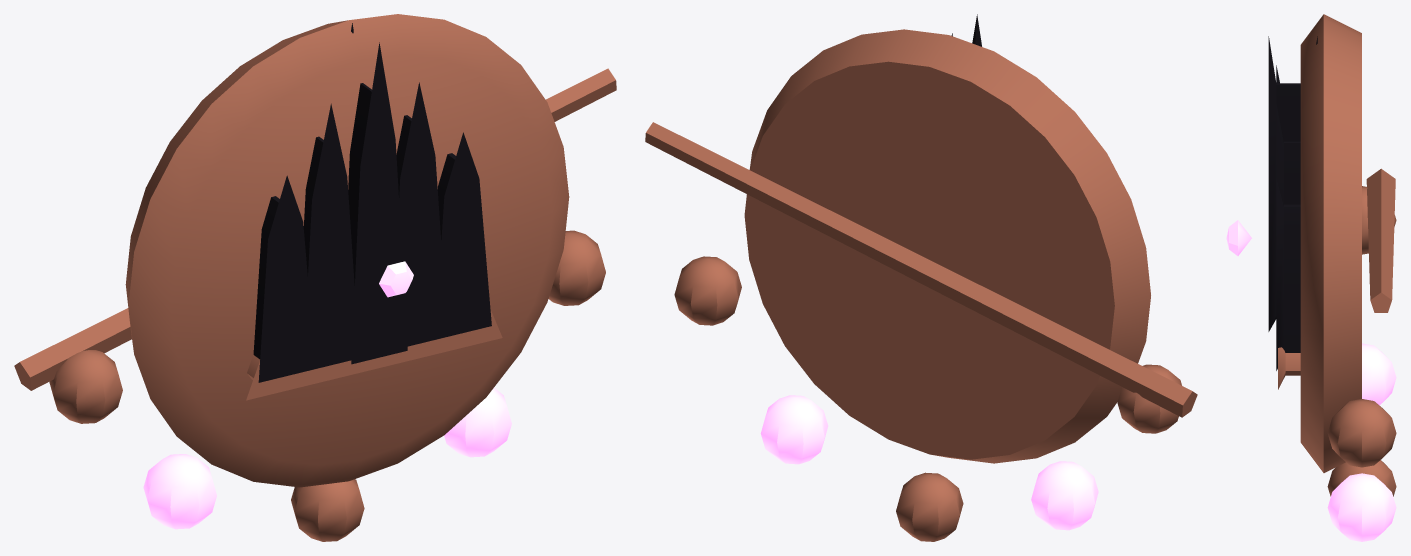
File: boss_obsidian_oath_accessory_4.glb
3 views of the same model, side by side, from view 1: azimuth 30°, elevation 25°; view 2: azimuth 150°, elevation 25°; view 3: azimuth 270°, elevation 25° (orthographic). The views are drawn at different scales.
Parts seen in each view (by area): view 1: boss_obsidian_oath_accessory_4; view 2: boss_obsidian_oath_accessory_4; view 3: boss_obsidian_oath_accessory_4.
Part boxes in pixels (x1=…): boss_obsidian_oath_accessory_4: x1=14, y1=14, x2=616, y2=541; boss_obsidian_oath_accessory_4: x1=645, y1=14, x2=1197, y2=541; boss_obsidian_oath_accessory_4: x1=1226, y1=14, x2=1396, y2=541.
Size of the model in its own units: 0.1616 by 0.1392 by 0.0444.
